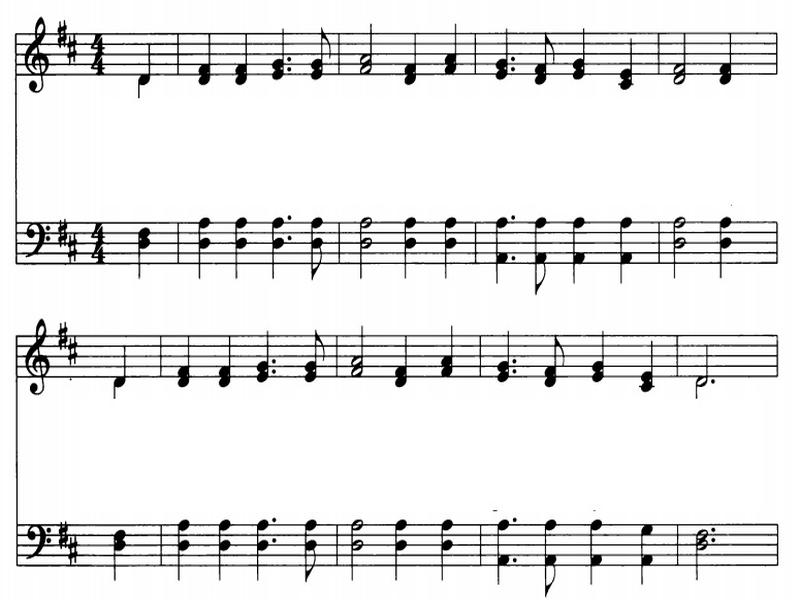B: (337, 515, 371, 590), (352, 207, 381, 284), (353, 7, 382, 81), (667, 212, 693, 287), (665, 32, 693, 90), (347, 316, 371, 381), (689, 374, 710, 414), (691, 528, 707, 579), (695, 338, 709, 386)
C: (297, 207, 335, 283), (307, 16, 339, 87), (533, 514, 562, 591), (528, 26, 563, 89), (298, 325, 331, 389), (532, 207, 553, 299), (541, 330, 571, 392), (299, 518, 322, 584)
CF: (25, 507, 55, 575), (19, 217, 53, 263)
CS: (19, 14, 50, 96), (21, 323, 49, 403)
N: (175, 215, 221, 283), (609, 213, 646, 295), (382, 510, 414, 591), (430, 517, 464, 589), (394, 214, 424, 292), (210, 327, 246, 392), (717, 22, 753, 84), (394, 26, 427, 92), (171, 320, 201, 388), (584, 516, 610, 593), (437, 13, 469, 74), (636, 334, 666, 397), (105, 526, 140, 579), (391, 322, 419, 388), (440, 322, 470, 382), (563, 212, 586, 288), (229, 19, 254, 87), (170, 517, 195, 585), (209, 513, 236, 574), (435, 518, 457, 592), (194, 24, 219, 88), (715, 202, 734, 285), (634, 512, 655, 587), (439, 214, 457, 292), (589, 329, 614, 384), (132, 220, 153, 282), (490, 24, 512, 82), (616, 24, 634, 94), (269, 21, 287, 82), (572, 23, 590, 84), (231, 214, 247, 281), (111, 334, 132, 384), (131, 39, 155, 81), (254, 520, 267, 591), (272, 209, 284, 278), (107, 373, 128, 407), (531, 212, 547, 244), (134, 68, 147, 102)
P: (269, 532, 284, 548), (507, 208, 521, 224), (707, 534, 720, 550), (509, 369, 524, 382), (709, 378, 721, 393), (510, 555, 526, 566), (507, 357, 524, 367), (283, 234, 295, 244), (510, 514, 520, 526), (265, 360, 278, 369), (270, 515, 280, 526), (284, 213, 296, 222), (708, 525, 720, 534), (510, 254, 517, 267), (506, 66, 517, 74), (286, 56, 294, 65), (508, 56, 517, 64), (286, 67, 296, 74), (268, 372, 278, 376)
SOS: (66, 236, 87, 275), (65, 340, 81, 371), (51, 520, 67, 549), (67, 540, 83, 569), (55, 218, 70, 245), (67, 35, 80, 66), (51, 20, 67, 44), (51, 322, 67, 346)
